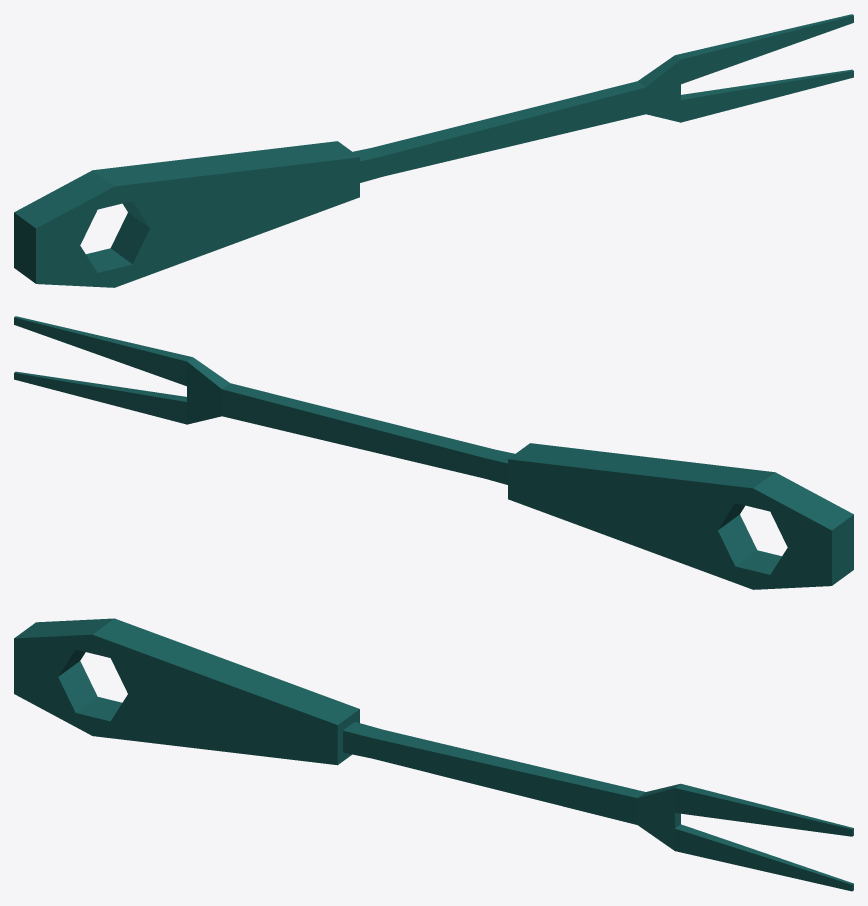
The model's file is GrillForkCollision.obj.
3 renders of one model, top to bottom at view 1: azimuth 30°, elevation 25°; view 2: azimuth 150°, elevation 25°; view 3: azimuth 330°, elevation 25°, orthographic.
Visible parts, largest first — view 1: fork.004, fork.009, fork.008, fork.002, fork.005, fork.007, fork.003, fork.013, fork.006, fork.010, fork.012, fork.015 (+2 smaller); view 2: fork.004, fork.009, fork.008, fork.002, fork.005, fork.007, fork.003, fork.013, fork.006, fork.010, fork.012, fork.015 (+2 smaller); view 3: fork.004, fork.009, fork.005, fork.002, fork.003, fork.007, fork.008, fork.010, fork.016, fork.013, fork.006, fork.015 (+2 smaller).
Boxes of the visible parts, x1=… form: fork.004: x1=353, y1=81, x2=680, y2=182; fork.009: x1=93, y1=141, x2=359, y2=200; fork.008: x1=111, y1=197, x2=357, y2=264; fork.002: x1=638, y1=14, x2=853, y2=87; fork.005: x1=151, y1=157, x2=359, y2=228; fork.007: x1=122, y1=157, x2=358, y2=228; fork.003: x1=646, y1=69, x2=853, y2=122; fork.013: x1=14, y1=170, x2=114, y2=228; fork.006: x1=14, y1=212, x2=79, y2=283; fork.010: x1=115, y1=198, x2=357, y2=287; fork.012: x1=86, y1=248, x2=132, y2=287; fork.015: x1=36, y1=209, x2=97, y2=245; fork.004: x1=187, y1=383, x2=514, y2=484; fork.009: x1=508, y1=443, x2=774, y2=502; fork.008: x1=510, y1=499, x2=756, y2=566; fork.002: x1=14, y1=316, x2=229, y2=389; fork.005: x1=508, y1=459, x2=716, y2=530; fork.007: x1=509, y1=459, x2=745, y2=530; fork.003: x1=14, y1=371, x2=221, y2=424; fork.013: x1=753, y1=472, x2=853, y2=530; fork.006: x1=788, y1=514, x2=853, y2=585; fork.010: x1=510, y1=500, x2=752, y2=589; fork.012: x1=735, y1=550, x2=781, y2=589; fork.015: x1=770, y1=511, x2=831, y2=547; fork.004: x1=343, y1=722, x2=680, y2=828; fork.009: x1=92, y1=618, x2=359, y2=724; fork.005: x1=128, y1=694, x2=359, y2=764; fork.002: x1=638, y1=783, x2=853, y2=836; fork.003: x1=638, y1=824, x2=853, y2=891; fork.007: x1=111, y1=658, x2=336, y2=724; fork.008: x1=111, y1=694, x2=336, y2=764; fork.010: x1=93, y1=721, x2=335, y2=764; fork.016: x1=14, y1=661, x2=97, y2=712; fork.013: x1=14, y1=618, x2=114, y2=649; fork.006: x1=14, y1=639, x2=57, y2=693; fork.015: x1=14, y1=638, x2=85, y2=676.
Bounding box in the file's own units: 0.6824 × 0.0799 × 0.0316.
